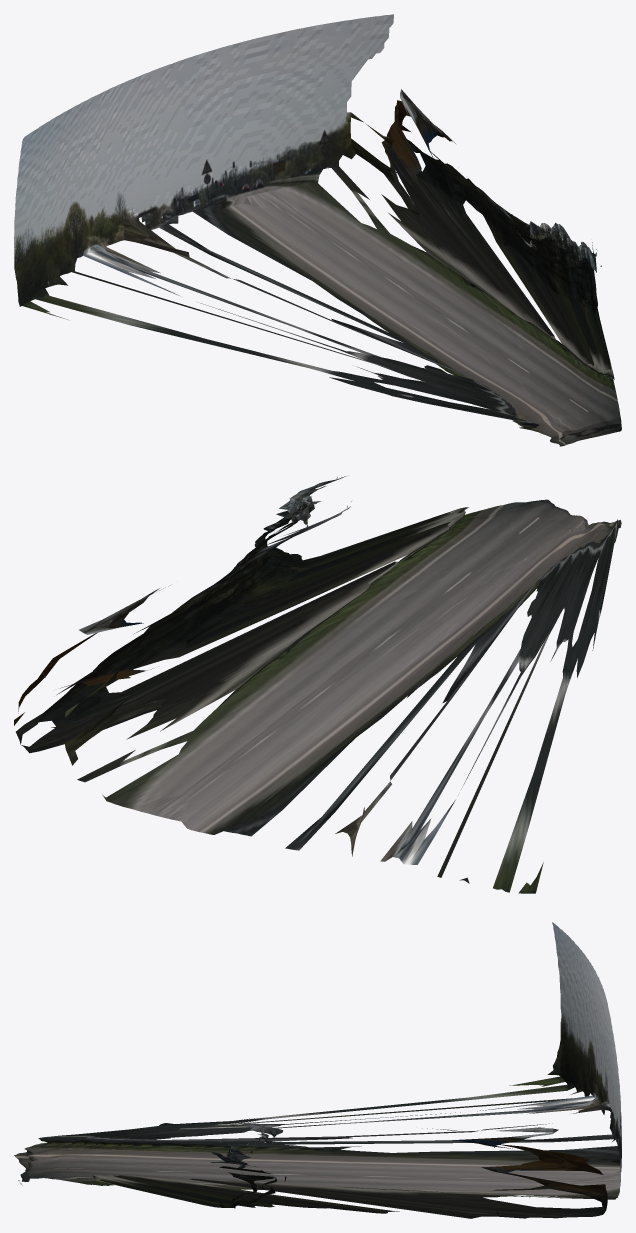
3 renders of one model, top to bottom at view 1: azimuth 30°, elevation 25°; view 2: azimuth 150°, elevation 25°; view 3: azimuth 270°, elevation 25°, orthographic. The views are drawn at different scales.
Parts seen in each view (by area): view 1: defaultobject; view 2: defaultobject; view 3: defaultobject.
Part boxes in pixels (box(x1,y1,x2,y2)): defaultobject: box(14, 14, 621, 446); defaultobject: box(14, 476, 621, 893); defaultobject: box(14, 922, 621, 1218).
Bounding box in the file's own units: 31.63 × 13.46 × 44.71.
1 material, 1 textured.
